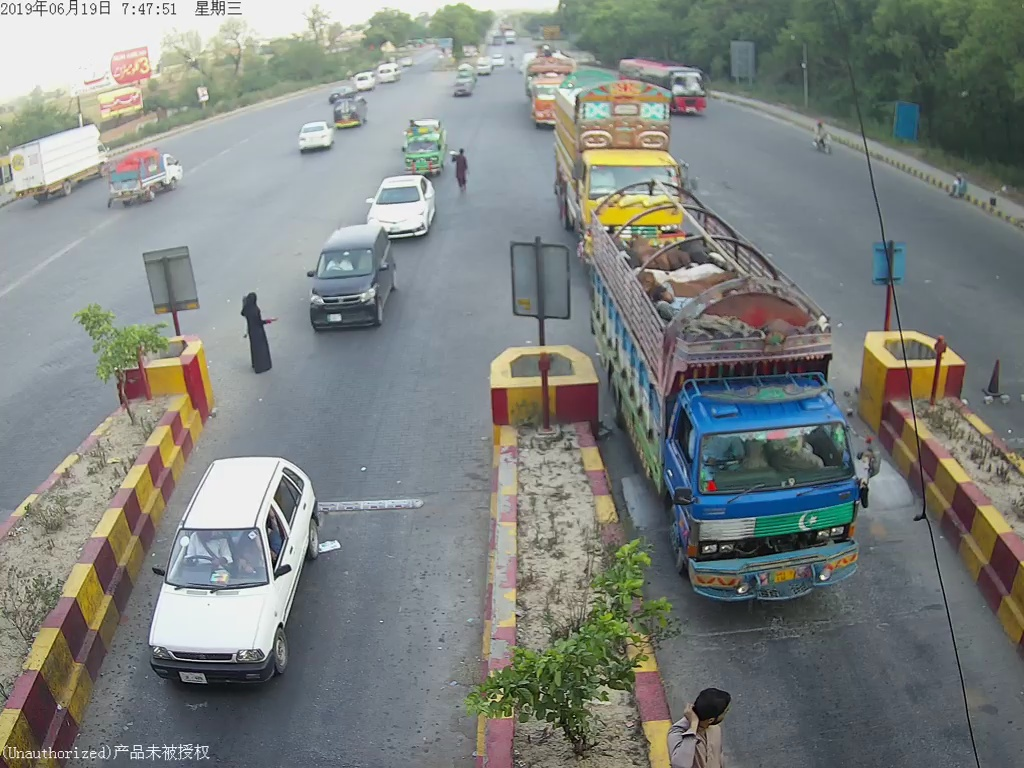Cat-1: (136, 451, 336, 688), (303, 226, 397, 331), (357, 173, 441, 238), (395, 118, 453, 177)
Cat-2: (621, 210, 876, 603)
Cat-4: (553, 74, 687, 274)
Cat-5: (519, 49, 568, 122)
